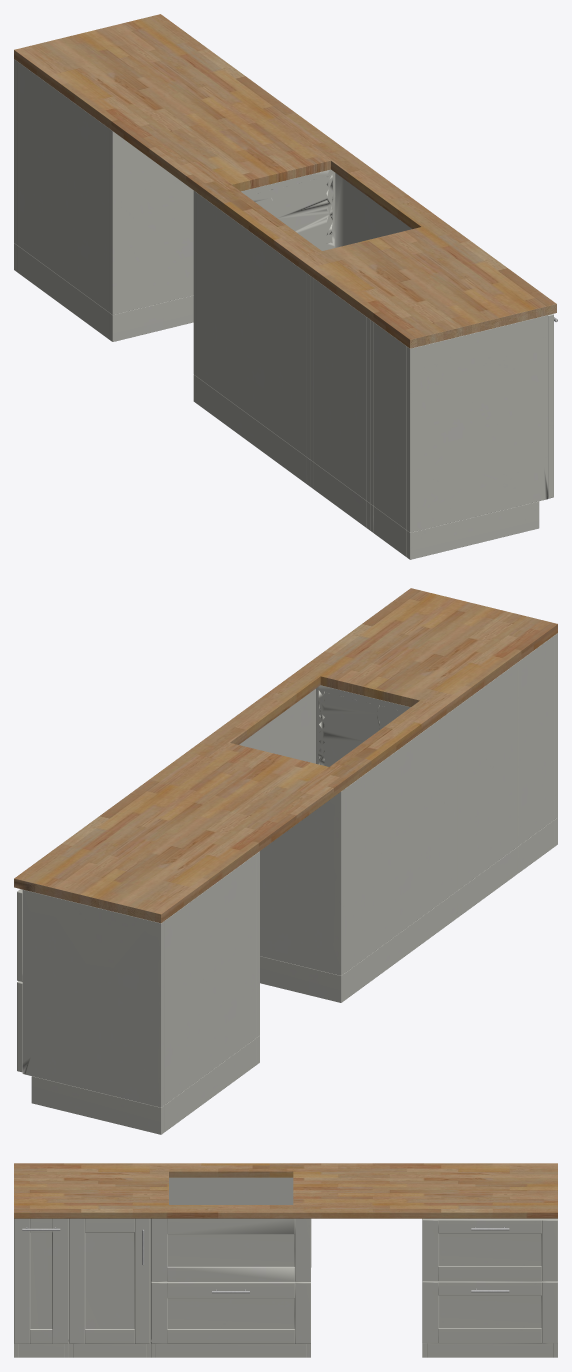
The model's file is fixture_counter_a01.glb.
3 renders of one model, top to bottom at view 1: azimuth 30°, elevation 25°; view 2: azimuth 150°, elevation 25°; view 3: azimuth 270°, elevation 25°, orthographic. The views are drawn at different scales.
Visible parts, largest first — view 1: sm_fixture_counter_a01_01; view 2: sm_fixture_counter_a01_01; view 3: sm_fixture_counter_a01_01.
Boxes of the visible parts, x1,y1,x2,y2 form: sm_fixture_counter_a01_01: [14, 14, 557, 559]; sm_fixture_counter_a01_01: [14, 588, 557, 1134]; sm_fixture_counter_a01_01: [14, 1163, 557, 1357].
Size of the model in its own units: 0.6797 by 0.9271 by 3.02.
35 materials, 35 textured.
